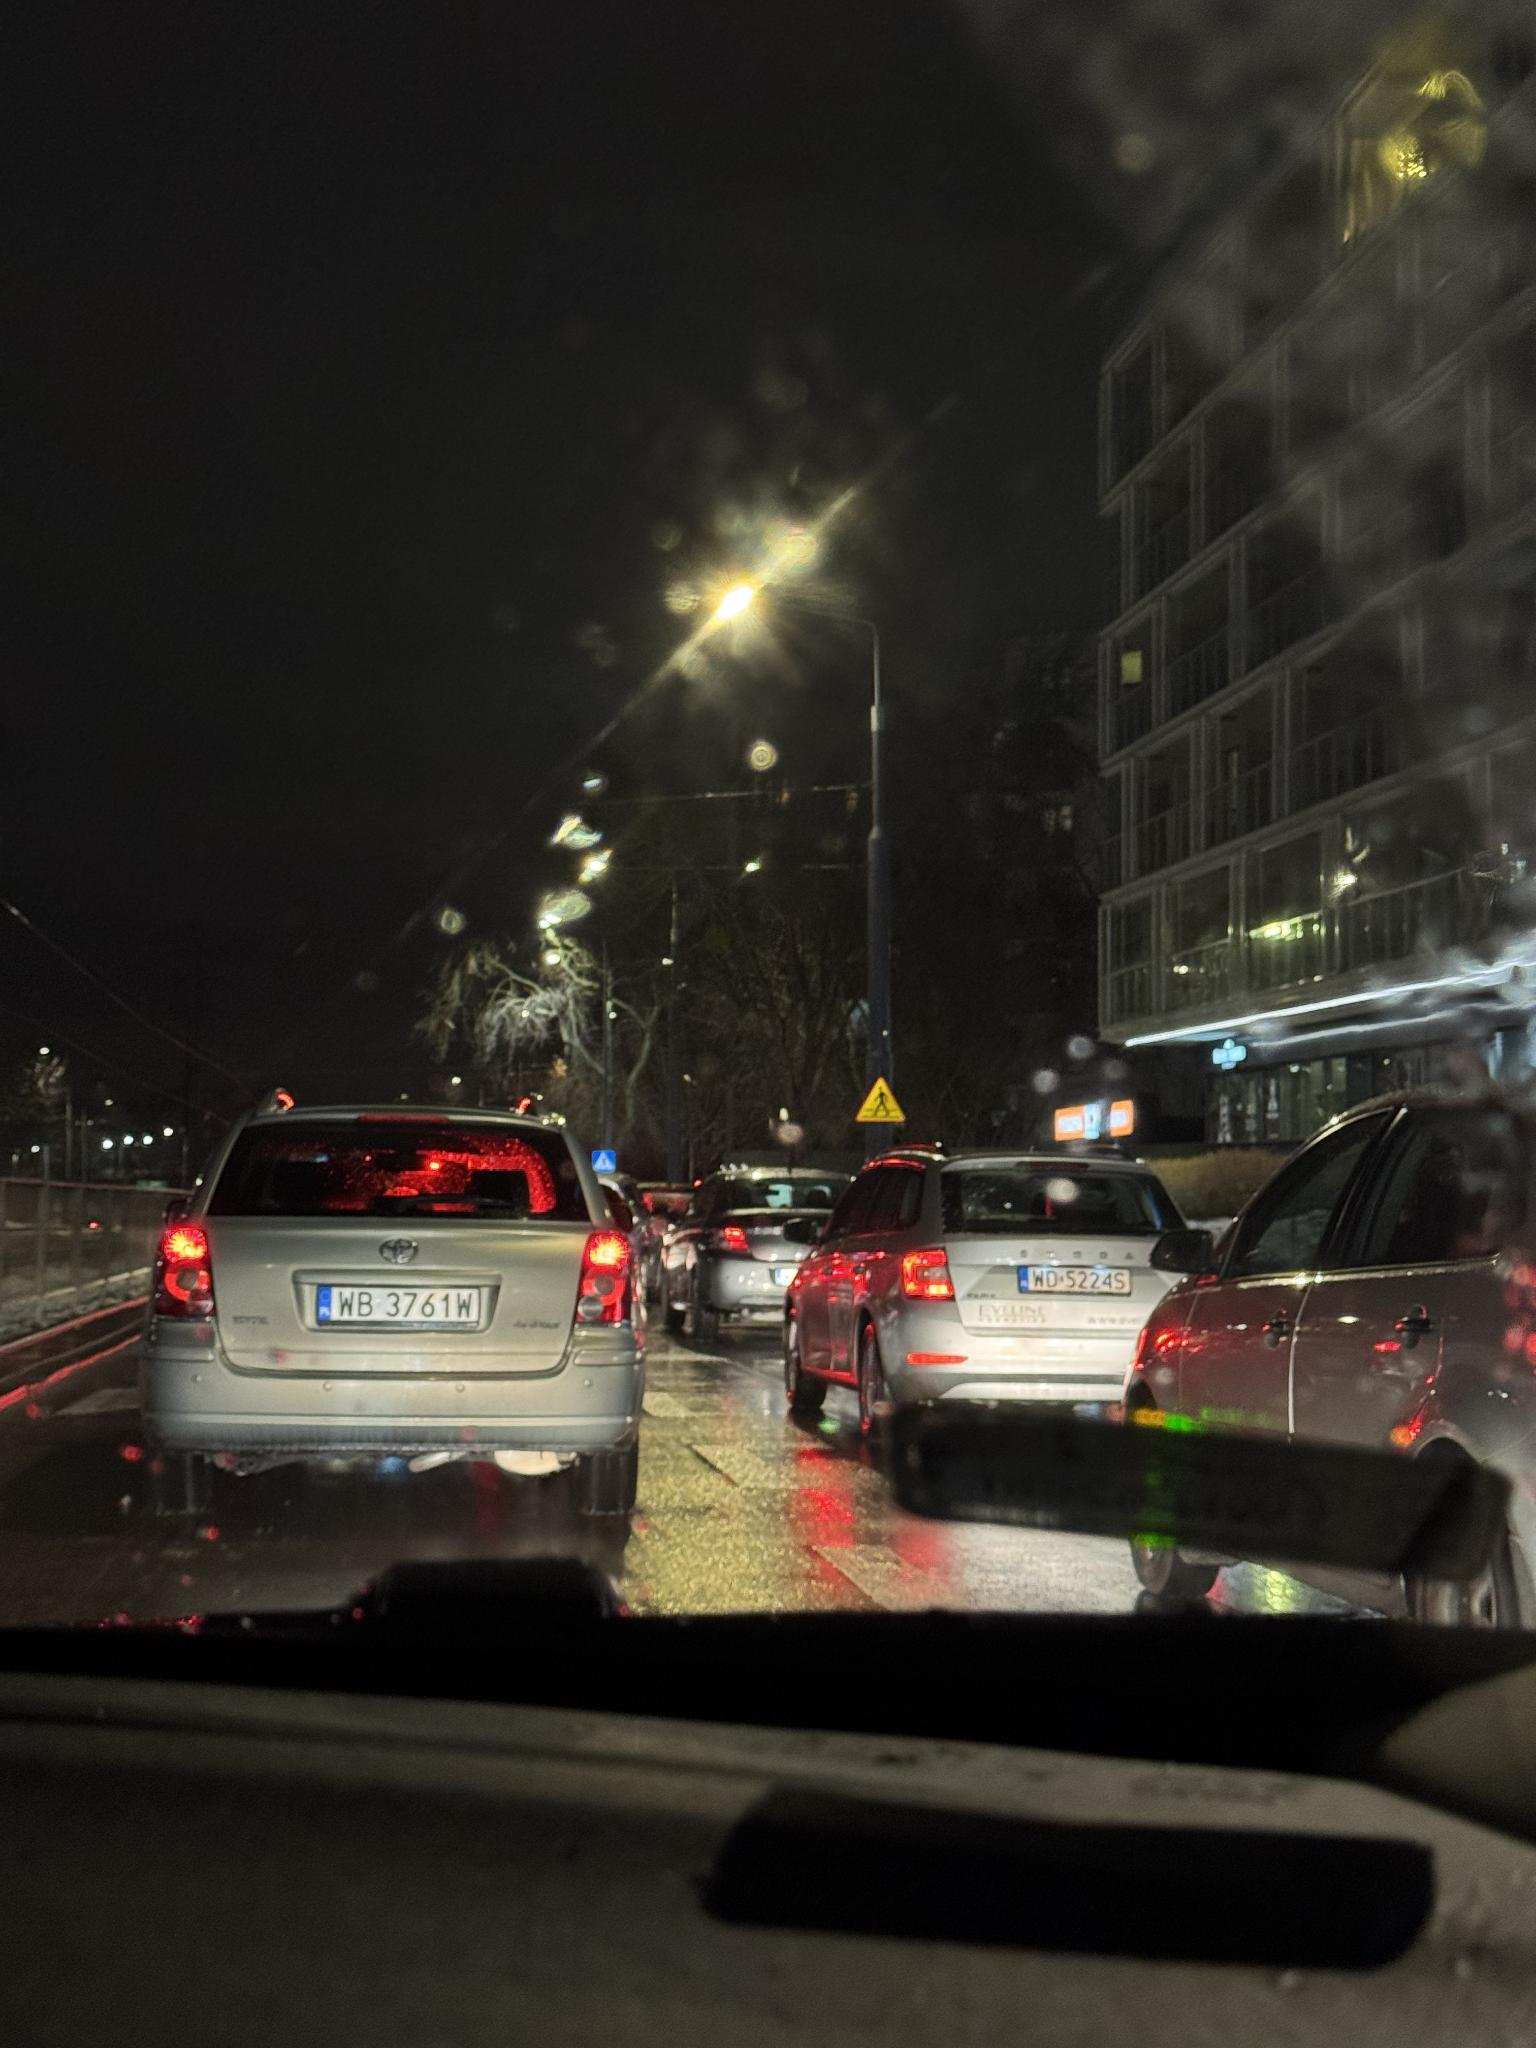information: (592, 1151, 616, 1172)
warning: (854, 1076, 907, 1122)
